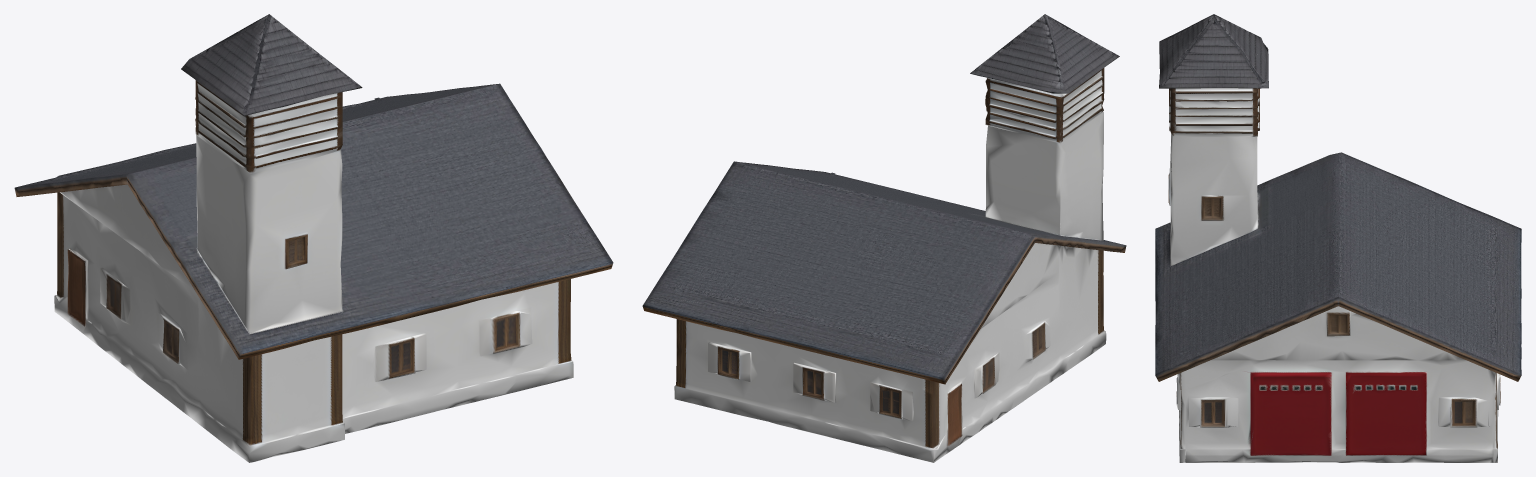
The model's file is firestation_tripo.glb.
3 views of the same model, side by side, from view 1: azimuth 30°, elevation 25°; view 2: azimuth 150°, elevation 25°; view 3: azimuth 270°, elevation 25° (orthographic). The views are drawn at different scales.
Visible parts, largest first — view 1: tripo_node_986f73ae-9fb6-478e-8513-ec1d927b92b7; view 2: tripo_node_986f73ae-9fb6-478e-8513-ec1d927b92b7; view 3: tripo_node_986f73ae-9fb6-478e-8513-ec1d927b92b7.
Boxes of the visible parts, box(x1,y1,x2,y2) form: tripo_node_986f73ae-9fb6-478e-8513-ec1d927b92b7: box(14, 14, 613, 462); tripo_node_986f73ae-9fb6-478e-8513-ec1d927b92b7: box(642, 14, 1126, 462); tripo_node_986f73ae-9fb6-478e-8513-ec1d927b92b7: box(1155, 14, 1521, 462).
Bounding box in the file's own units: 0.9157 × 0.9803 × 0.9642.
1 material, 1 textured.
